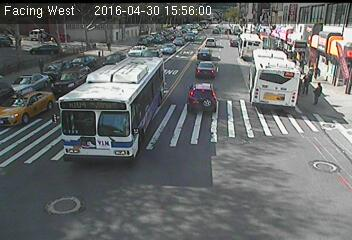neg: (294, 139, 347, 210), (18, 144, 62, 202), (103, 122, 141, 173), (181, 85, 214, 129), (55, 144, 86, 186), (174, 7, 194, 34), (189, 45, 205, 66)
